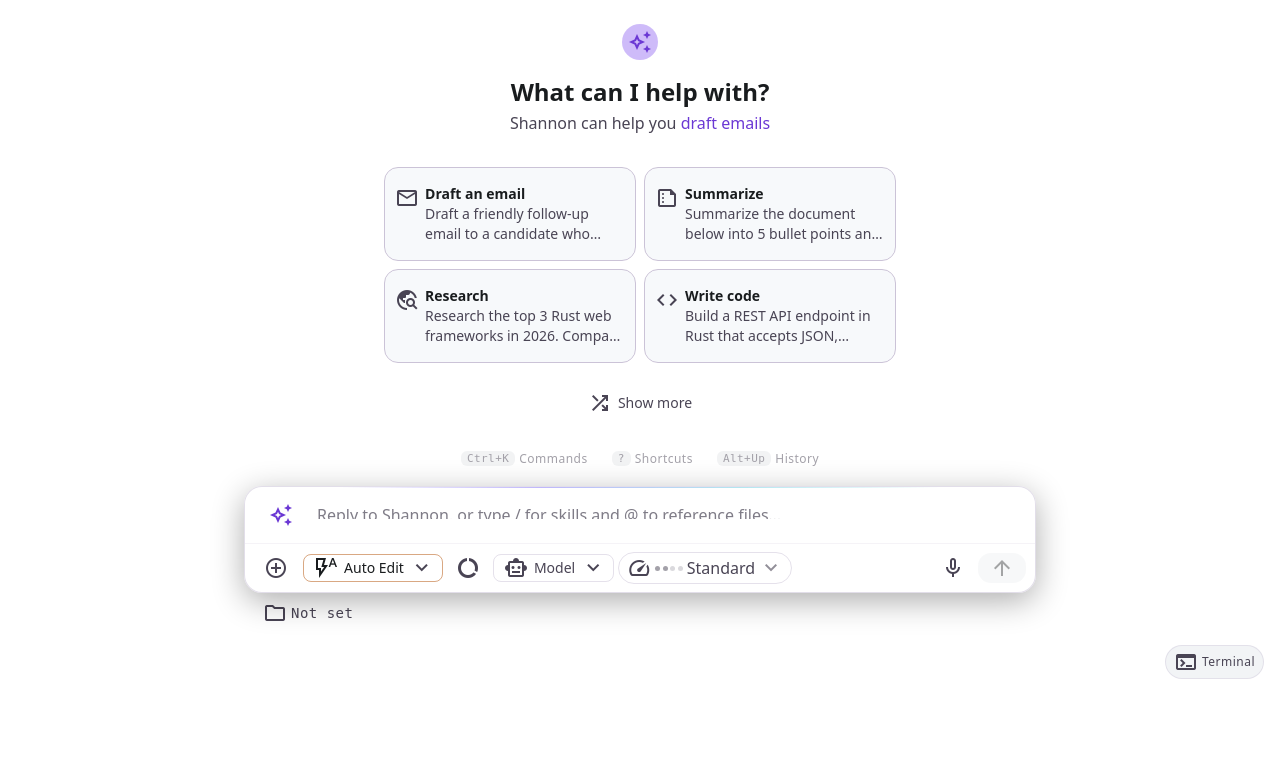
Scenario: Chat page › clears the slash result card when the session changes
This screenshot has width=1280, height=772.
Replace the text in the text box named "Message" with "/cost" at [668, 503], box [309,487,1027,519]
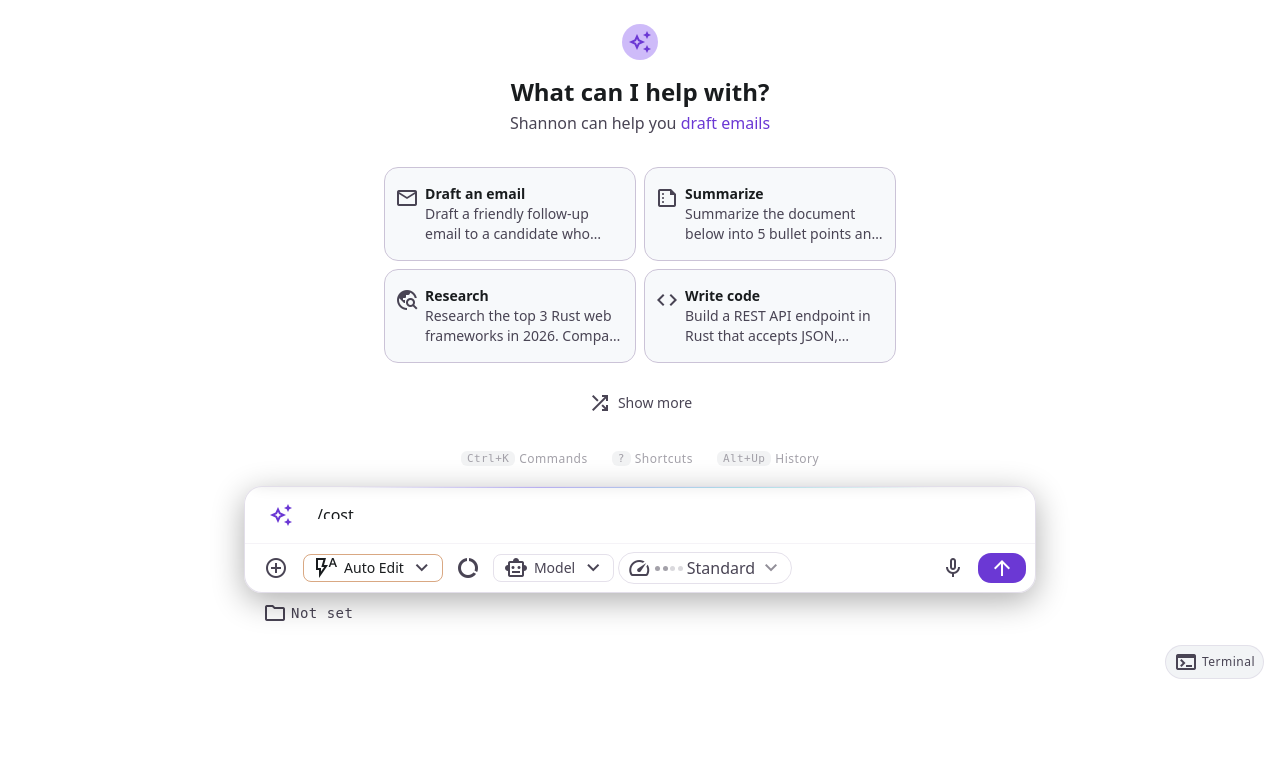
Press Enter in the text box named "Message", box [309,487,1027,519]
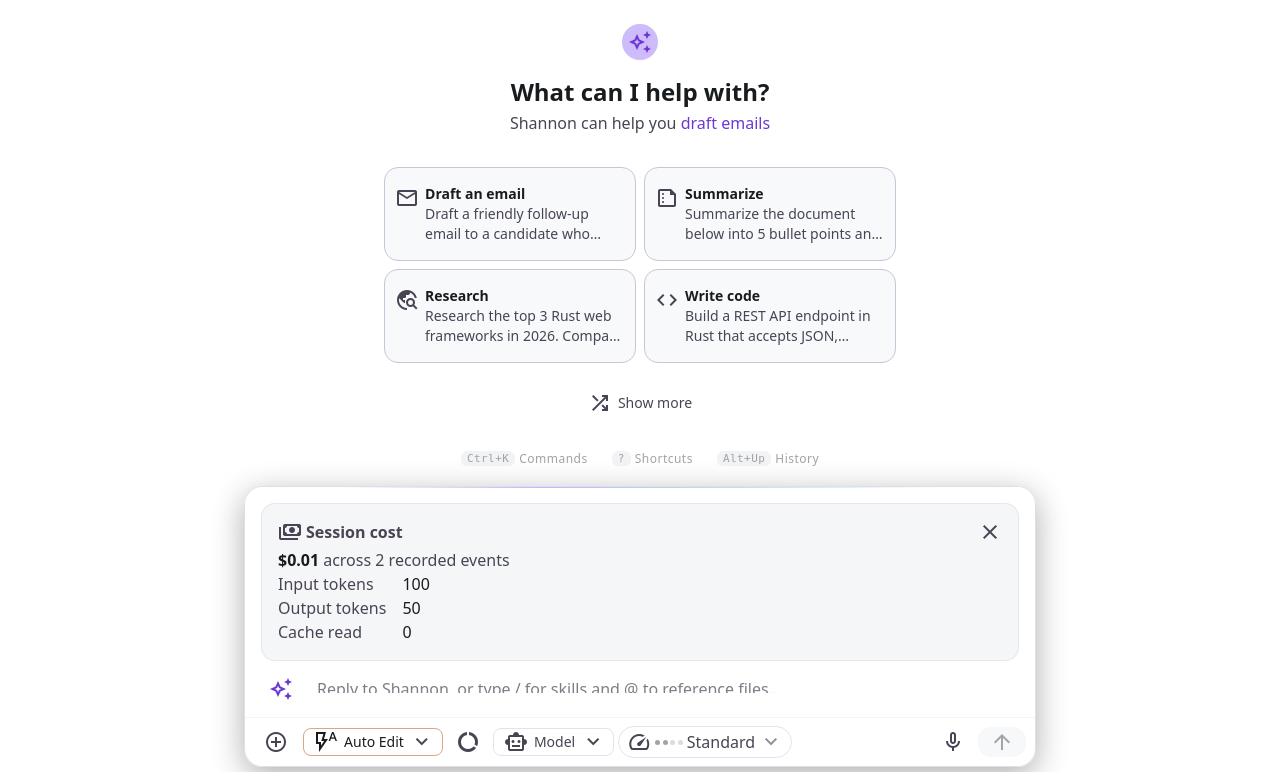
expect the text "$0.01" is shown: met, box [278,548,319,572]
